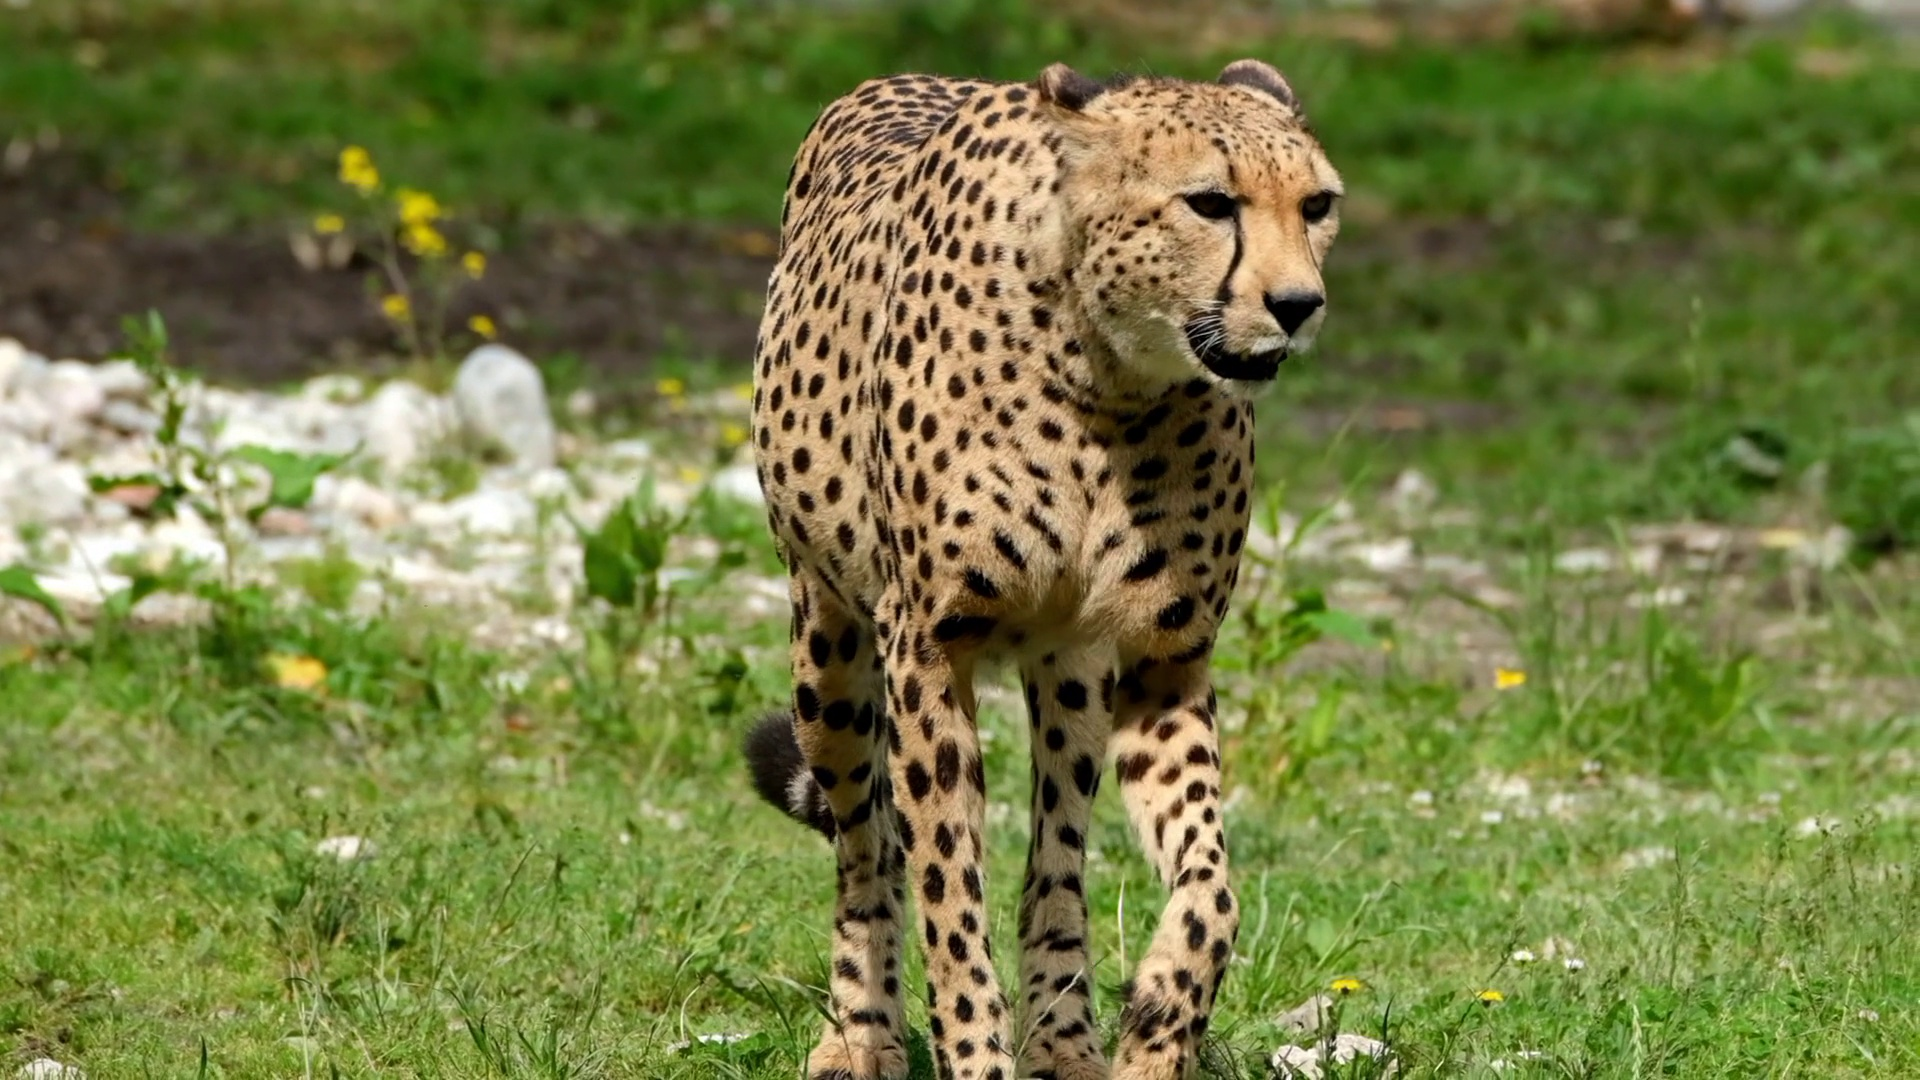Cheetah: (735, 55, 1346, 1080)
